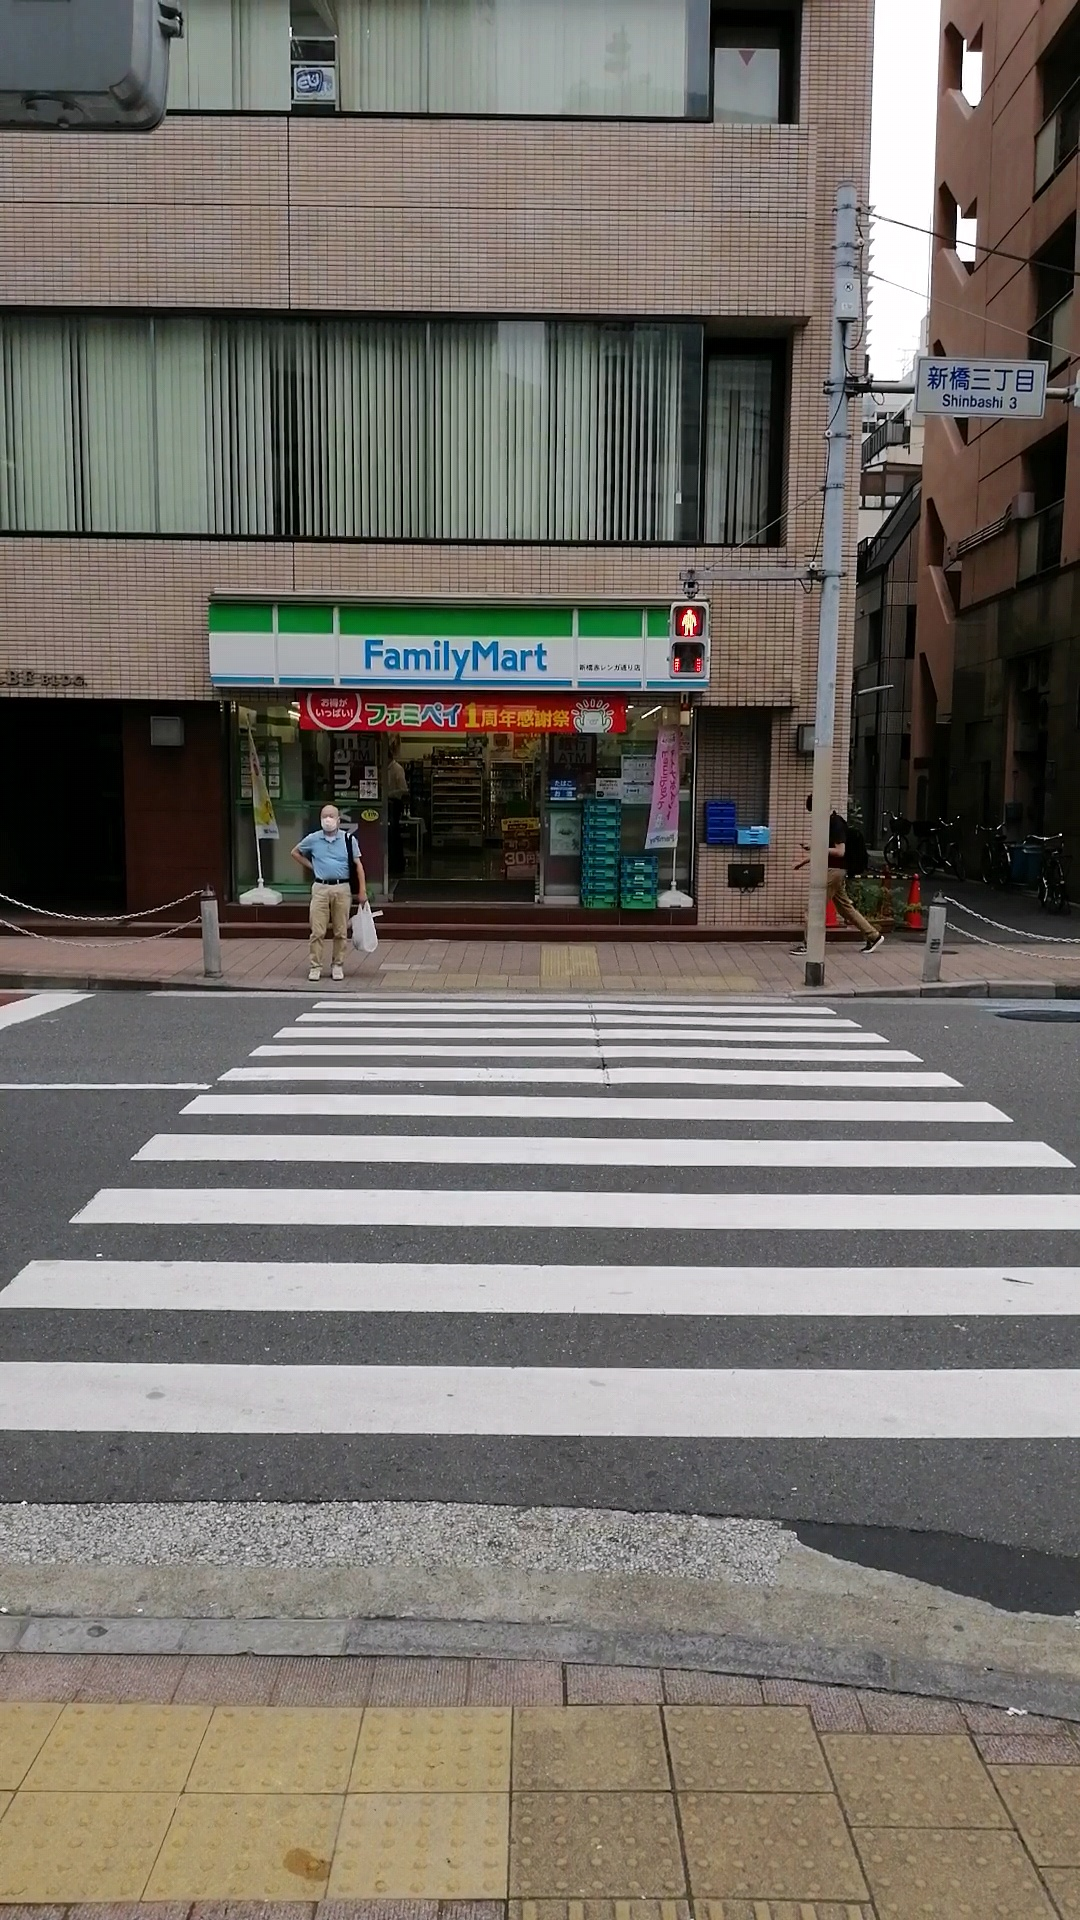red: (670, 600, 707, 678)
